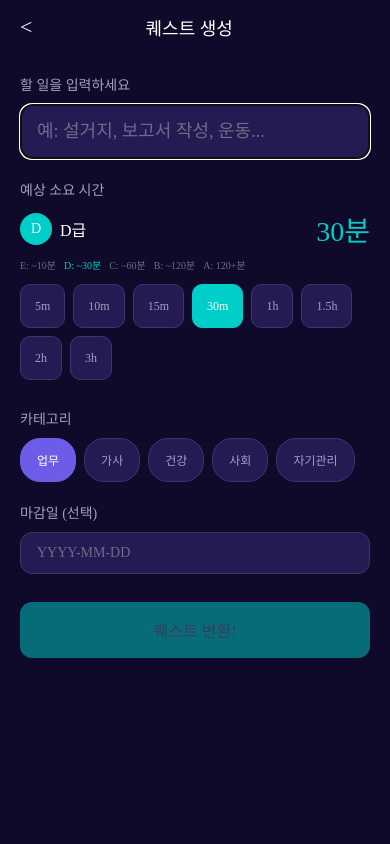
Scenario: 플로우 2: 메인 루프 — QUEST + SKY › 2.2 QuestCreateScreen (AI 변환 + 저장) › AI 변환 성공 → 결과 단계 표시 (questTitle/questStory 렌더)
Type "보고서 작성" into the field with placeholder "예: 설거지, 보고서 작성, 운동...". click: point(195, 132)
box: [20, 104, 370, 159]
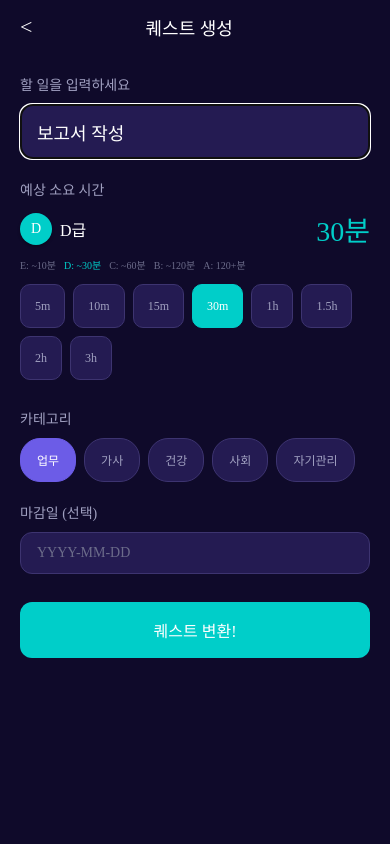
Click the text "퀘스트 변환!". click: point(195, 630)
box: [154, 618, 236, 642]
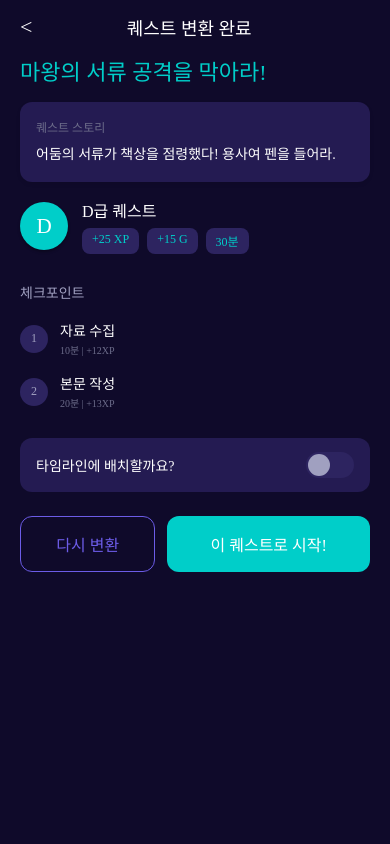
Expected: the text "마왕의 서류 공격을 막아라!" is shown, [20, 60, 266, 85]
Expected: the text "어둠의 서류가 책상을 점령했다! 용사여 펜을 들어라." is shown, [36, 144, 354, 166]
